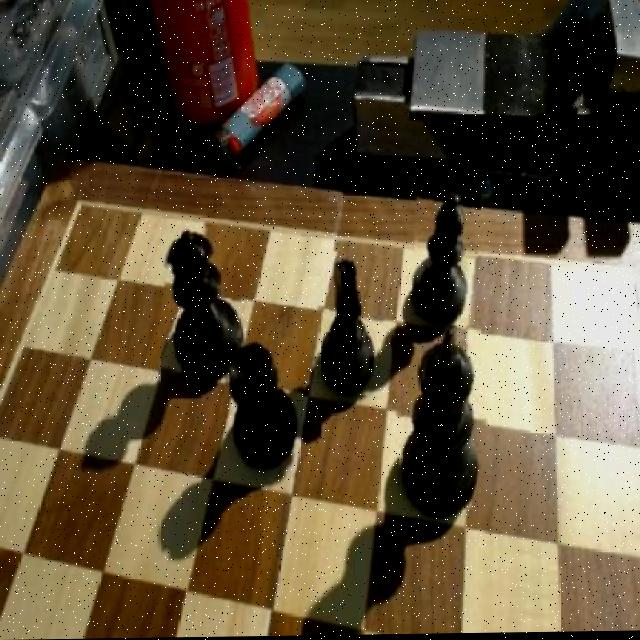bishop: (412, 185, 480, 328)
black-bishop: (394, 328, 489, 516)
black-king: (316, 252, 386, 398)
black-pawn: (161, 226, 244, 386)
black-queen: (226, 343, 304, 475)
